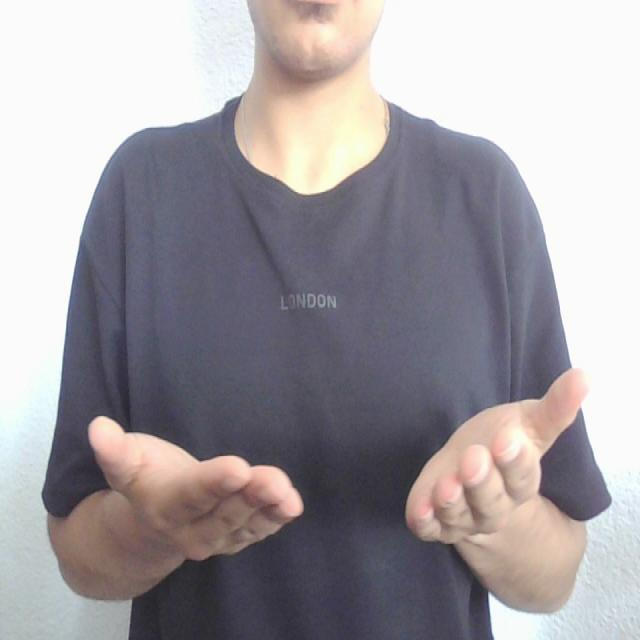Evet: (85, 361, 595, 569)
